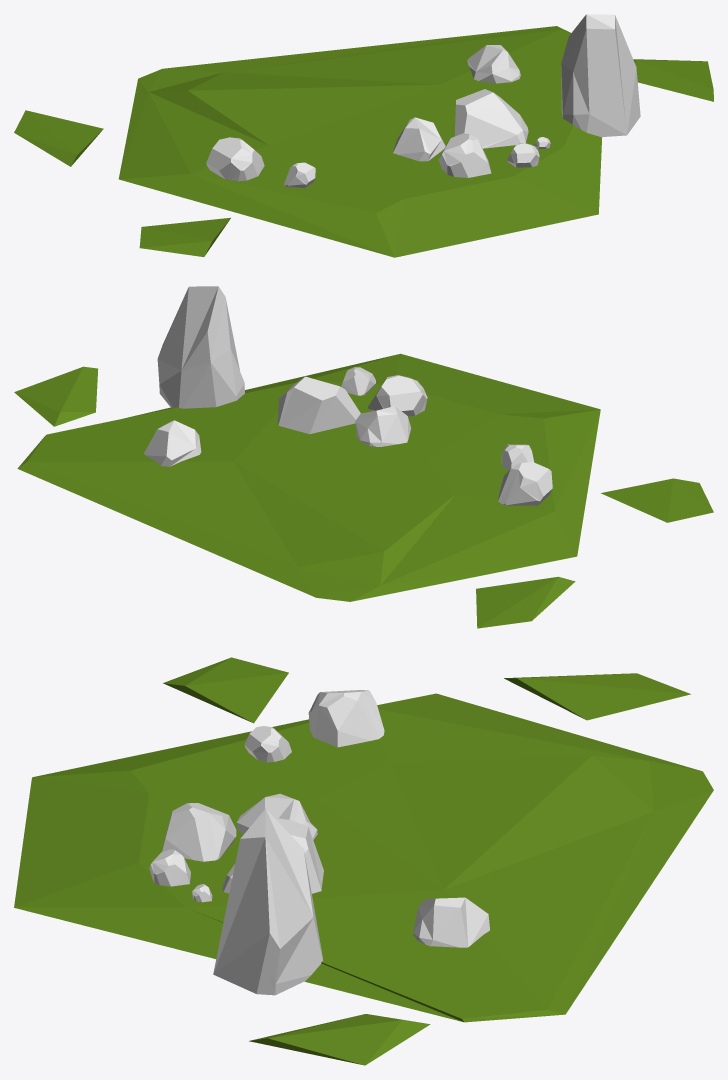
Rendered from big_moss_03a.fbx.
3 views of the same model, one above another, from view 1: azimuth 30°, elevation 25°; view 2: azimuth 150°, elevation 25°; view 3: azimuth 270°, elevation 25° (orthographic). The views are drawn at different scales.
Parts seen in each view (by area): view 1: big_moss_03; view 2: big_moss_03; view 3: big_moss_03.
Part boxes in pixels (x1,y1,x2,y2): big_moss_03: (14, 14, 713, 257); big_moss_03: (14, 286, 713, 628); big_moss_03: (14, 657, 713, 1065).
Bounding box in the file's own units: 7.34 × 1.28 × 5.32.
